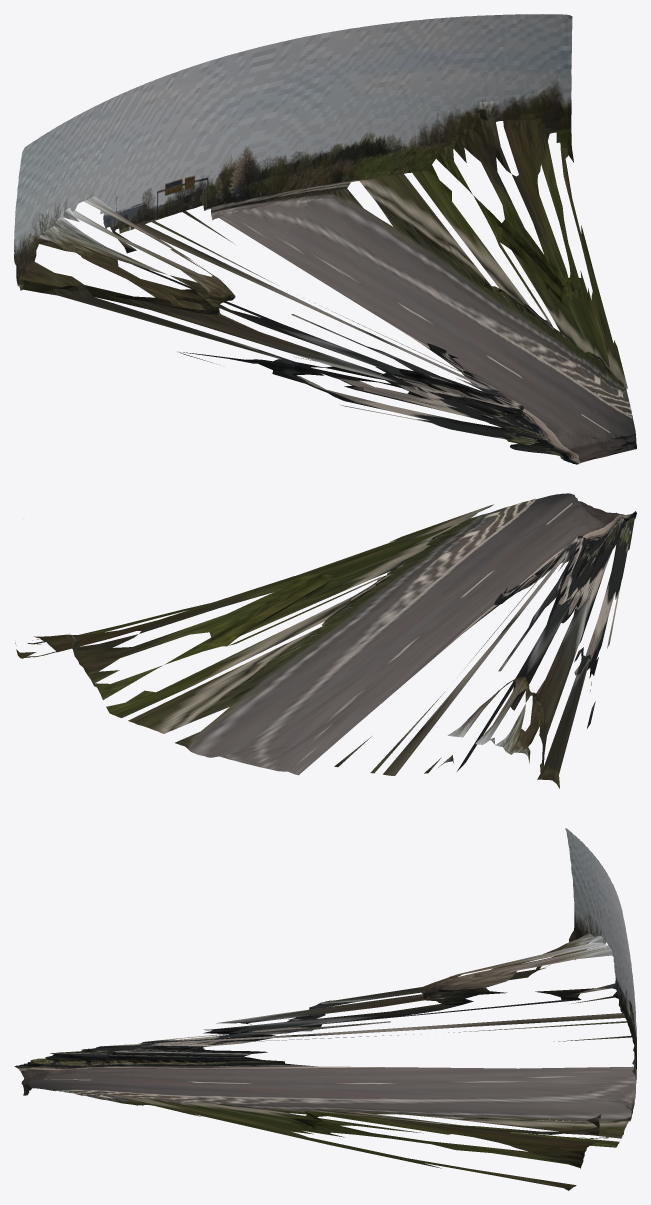
The picture shows the model from 3 angles, top to bottom: view 1: azimuth 30°, elevation 25°; view 2: azimuth 150°, elevation 25°; view 3: azimuth 270°, elevation 25°; orthographic projection. The views are drawn at different scales.
Parts seen in each view (by area): view 1: defaultobject; view 2: defaultobject; view 3: defaultobject.
Boxes of the visible parts, left/top/right/bottom form: defaultobject: left=14, top=14, right=636, bottom=464; defaultobject: left=15, top=493, right=636, bottom=788; defaultobject: left=14, top=828, right=636, bottom=1190.
Bounding box in the file's own units: 41.11 × 12.21 × 44.8.
Materials: 1 (1 with a texture image).
